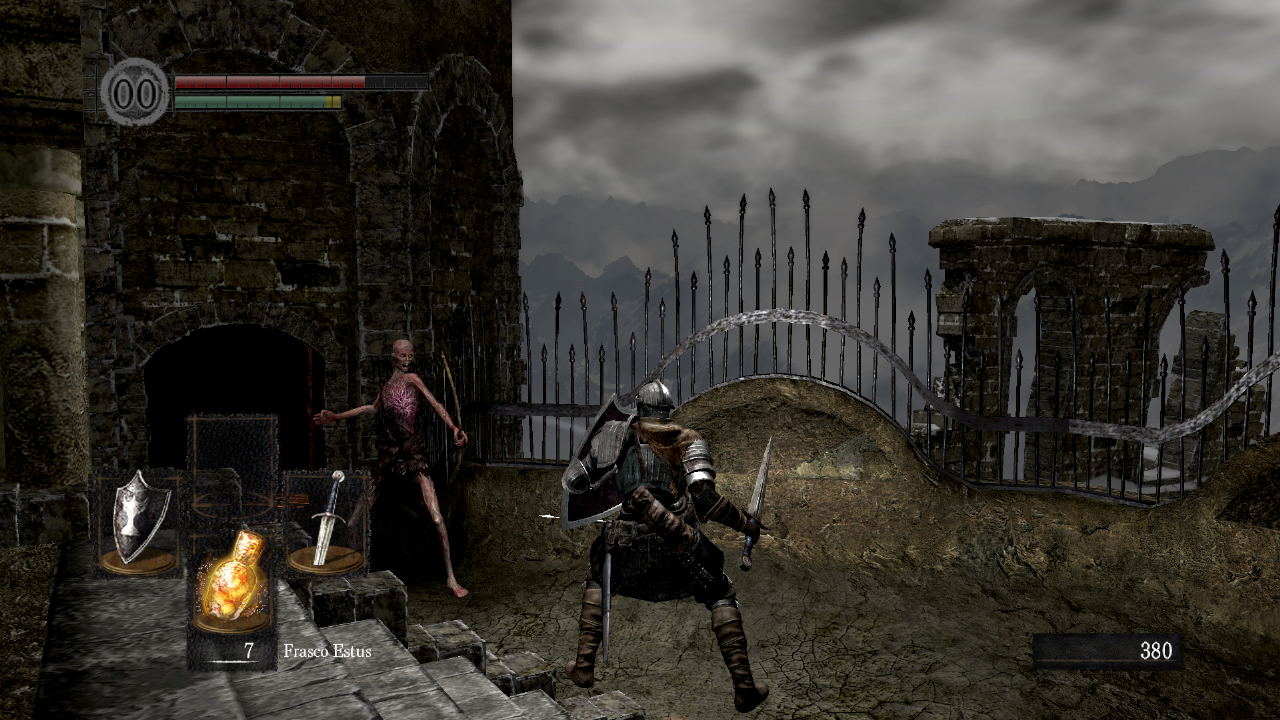hollow: (312, 339, 470, 599)
player: (560, 379, 773, 712)
